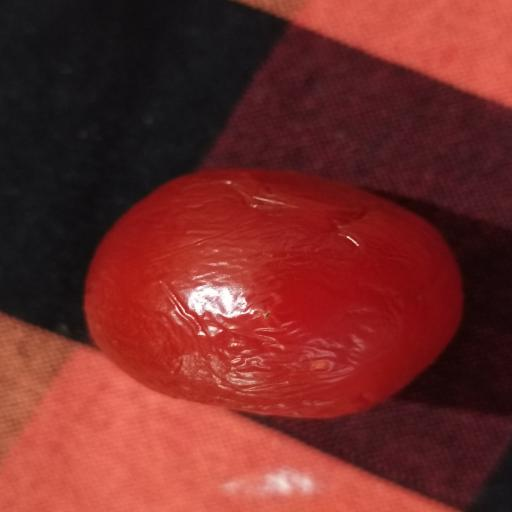spoiled: (85, 170, 462, 418)
